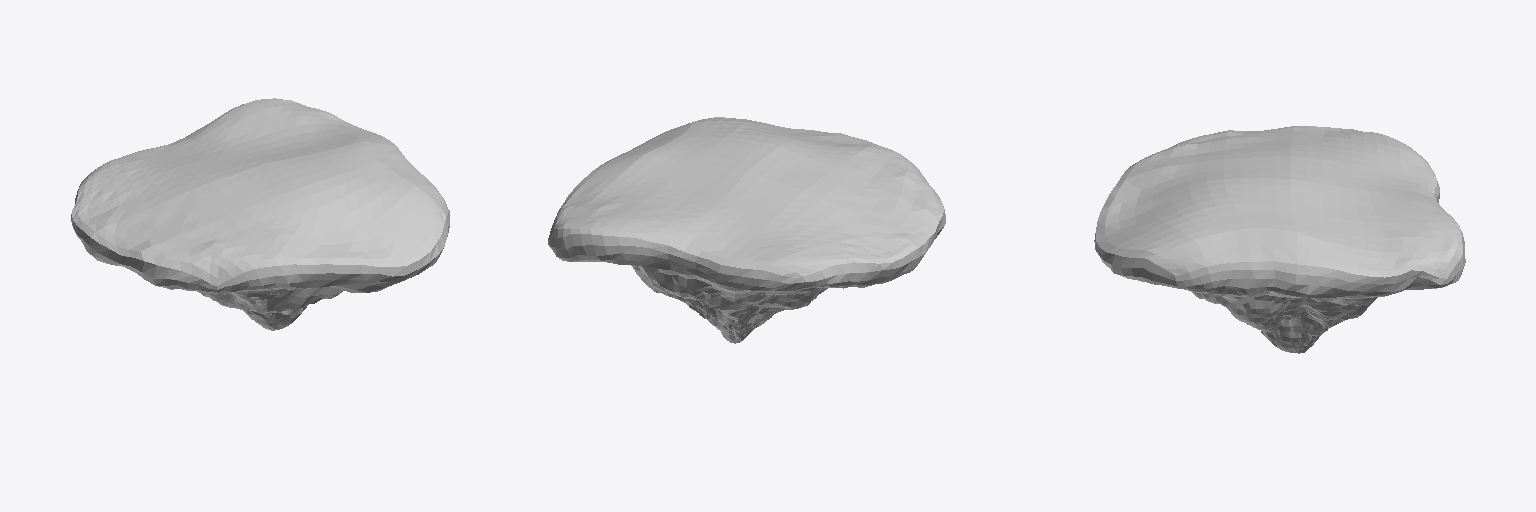
Rendered from sten_maya.obj.
The picture shows the model from 3 angles: view 1: azimuth 30°, elevation 25°; view 2: azimuth 150°, elevation 25°; view 3: azimuth 270°, elevation 25°; orthographic projection.
Visible parts, largest first — view 1: ZBrush_defualt_group; view 2: ZBrush_defualt_group; view 3: ZBrush_defualt_group.
Boxes of the visible parts, box(x1,y1,x2,y2) form: ZBrush_defualt_group: box(71, 98, 449, 330); ZBrush_defualt_group: box(548, 117, 945, 343); ZBrush_defualt_group: box(1094, 126, 1465, 353).
Size of the model in its own units: 193 by 99.79 by 195.